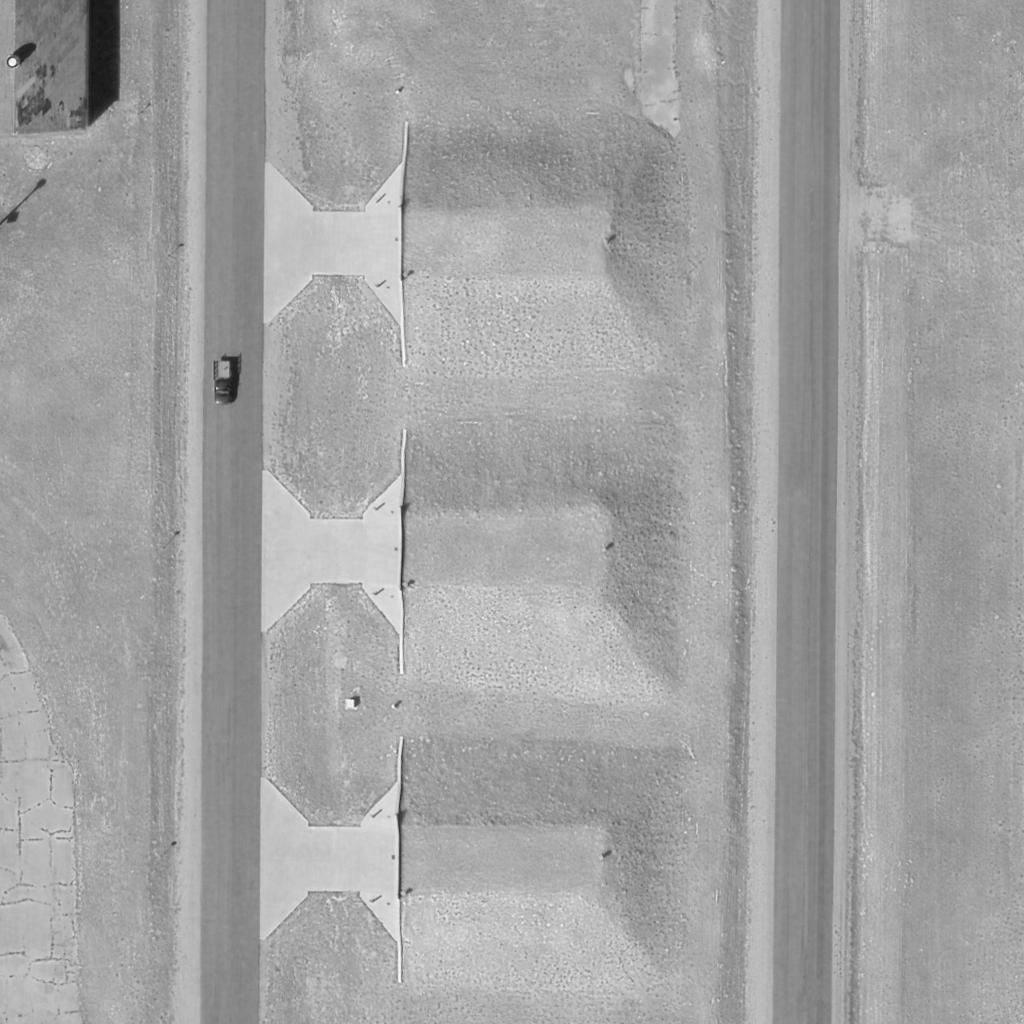vehicle: (214, 361, 232, 405)
